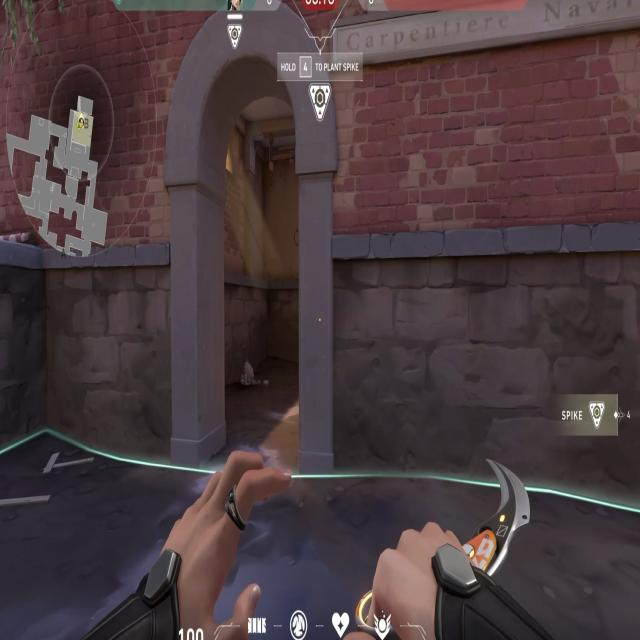B_Boathouse: (143, 0, 359, 487)
